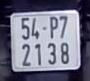1: (33, 42, 44, 67)
2: (20, 43, 33, 67)
3: (46, 42, 57, 67)
4: (31, 15, 41, 41)
5: (20, 17, 31, 41)
7: (58, 13, 68, 40)
8: (58, 41, 73, 65)
P: (48, 15, 59, 40)
